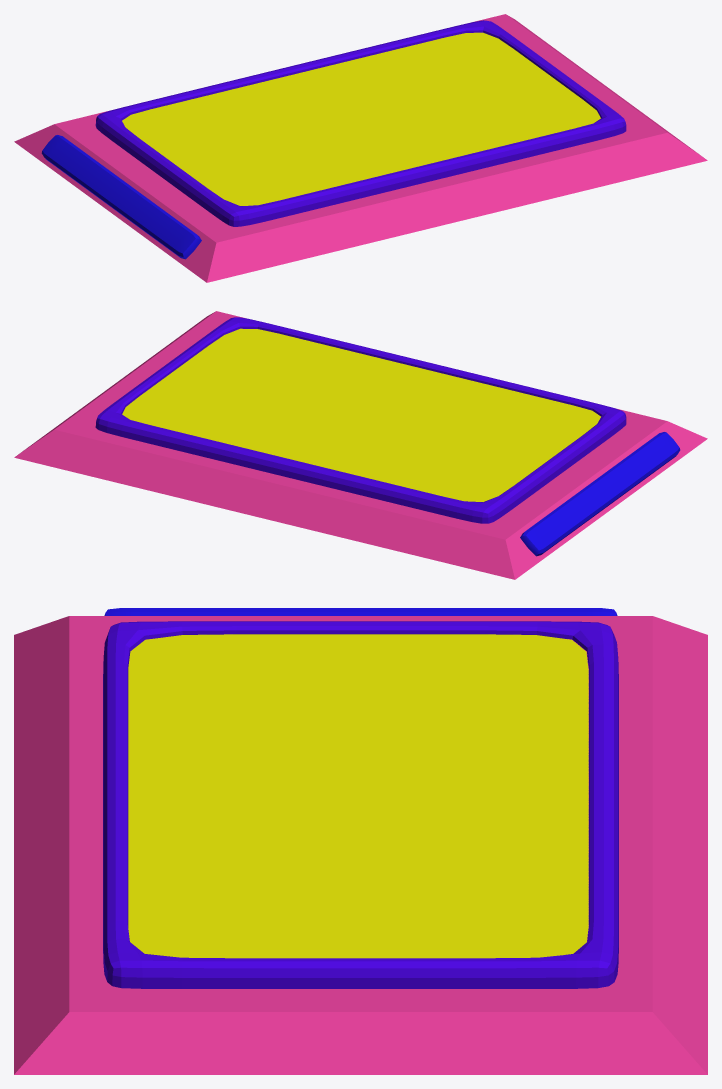
File: ceiling light 1.fbx
The picture shows the model from 3 angles, top to bottom: view 1: azimuth 30°, elevation 25°; view 2: azimuth 150°, elevation 25°; view 3: azimuth 270°, elevation 25°; orthographic projection. The views are drawn at different scales.
Visible parts, largest first — view 1: light source, ceiling light, middle lamp, Cube.062; view 2: light source, ceiling light, middle lamp, Cube.062; view 3: light source, ceiling light, middle lamp, Cube.062.
Boxes of the visible parts, x1,y1,x2,y2 form: light source: (122, 32, 600, 205); ceiling light: (14, 14, 707, 282); middle lamp: (95, 20, 626, 226); Cube.062: (41, 135, 201, 259); light source: (122, 328, 600, 501); ceiling light: (14, 311, 707, 579); middle lamp: (95, 317, 626, 523); Cube.062: (520, 432, 680, 556); light source: (128, 634, 588, 958); ceiling light: (14, 616, 707, 1074); middle lamp: (103, 621, 618, 988); Cube.062: (104, 608, 617, 615).
Size of the model in its own units: 300 by 20.17 by 200.
